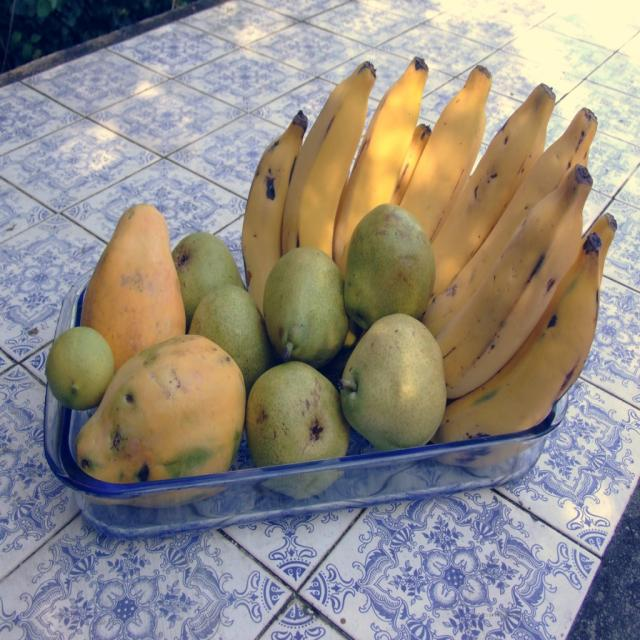pear: (248, 356, 356, 500), (336, 313, 446, 453), (343, 202, 437, 331), (186, 283, 274, 401), (266, 248, 346, 357), (171, 231, 248, 317), (45, 330, 117, 407)
